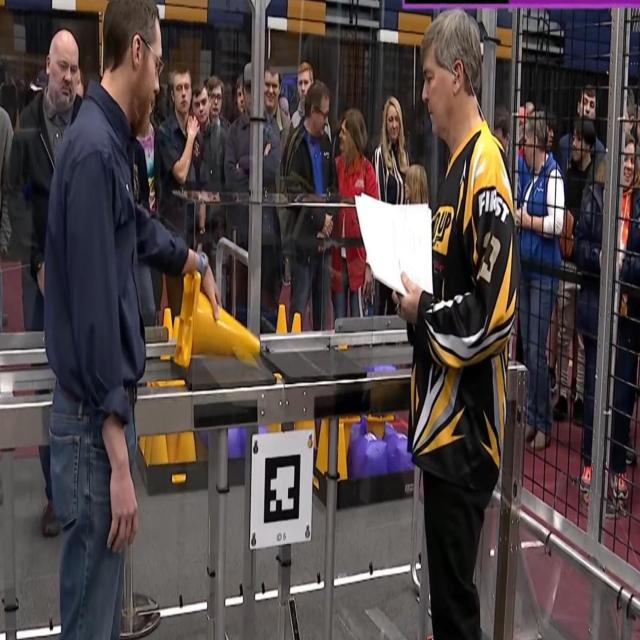frc_cone: (175, 270, 261, 370), (363, 409, 392, 442), (314, 419, 330, 475), (174, 433, 197, 466), (337, 421, 349, 480), (272, 303, 290, 335), (152, 429, 168, 463), (165, 429, 177, 464), (161, 307, 174, 339), (141, 432, 152, 460), (290, 312, 302, 335)
frc_cube: (352, 431, 387, 479), (386, 430, 415, 475), (227, 425, 244, 457)
